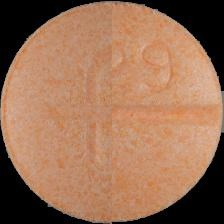0615-2574: (0, 0, 224, 224)
